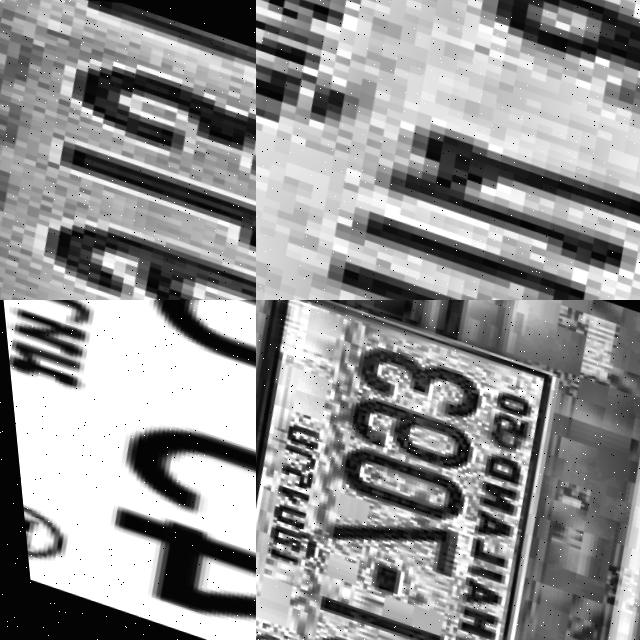license-plate: (256, 0, 640, 300), (256, 300, 591, 640), (0, 300, 256, 640), (0, 0, 256, 300)
